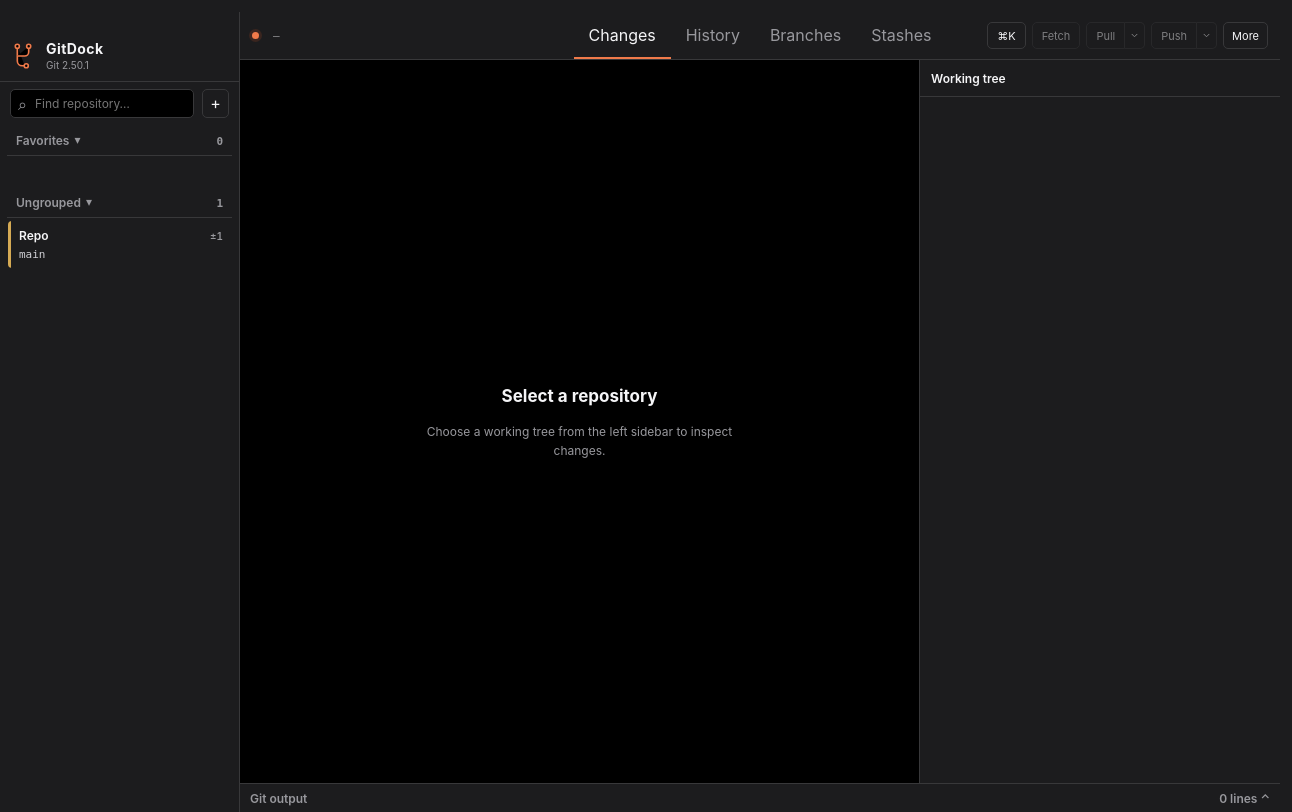
Test: disables normal commits without staged changes but permits amend
Click the button with class "repo-row". click: (120, 244)
box: x1=7 y1=220 x2=232 y2=269
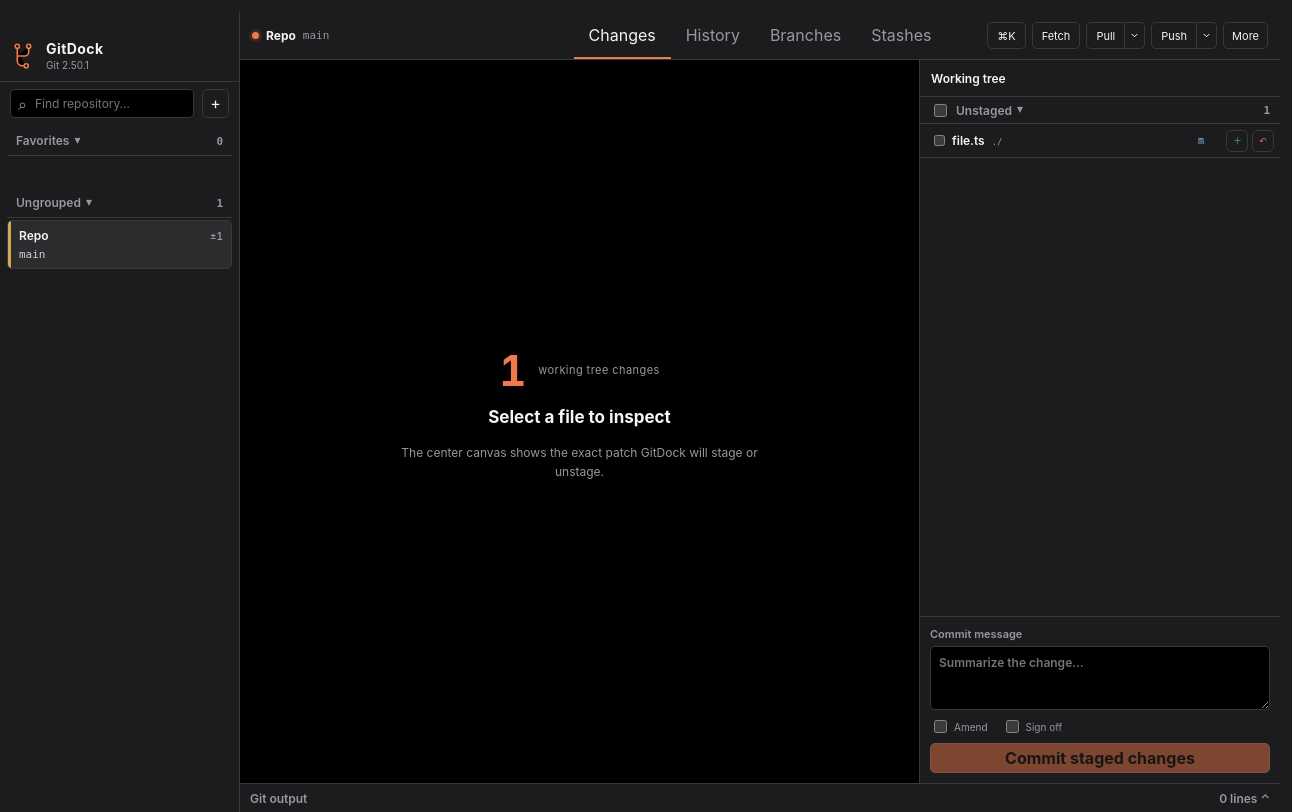
Type "Amend this" into the text box labelled "Commit message". click: (1100, 678)
box: x1=930 y1=646 x2=1270 y2=710
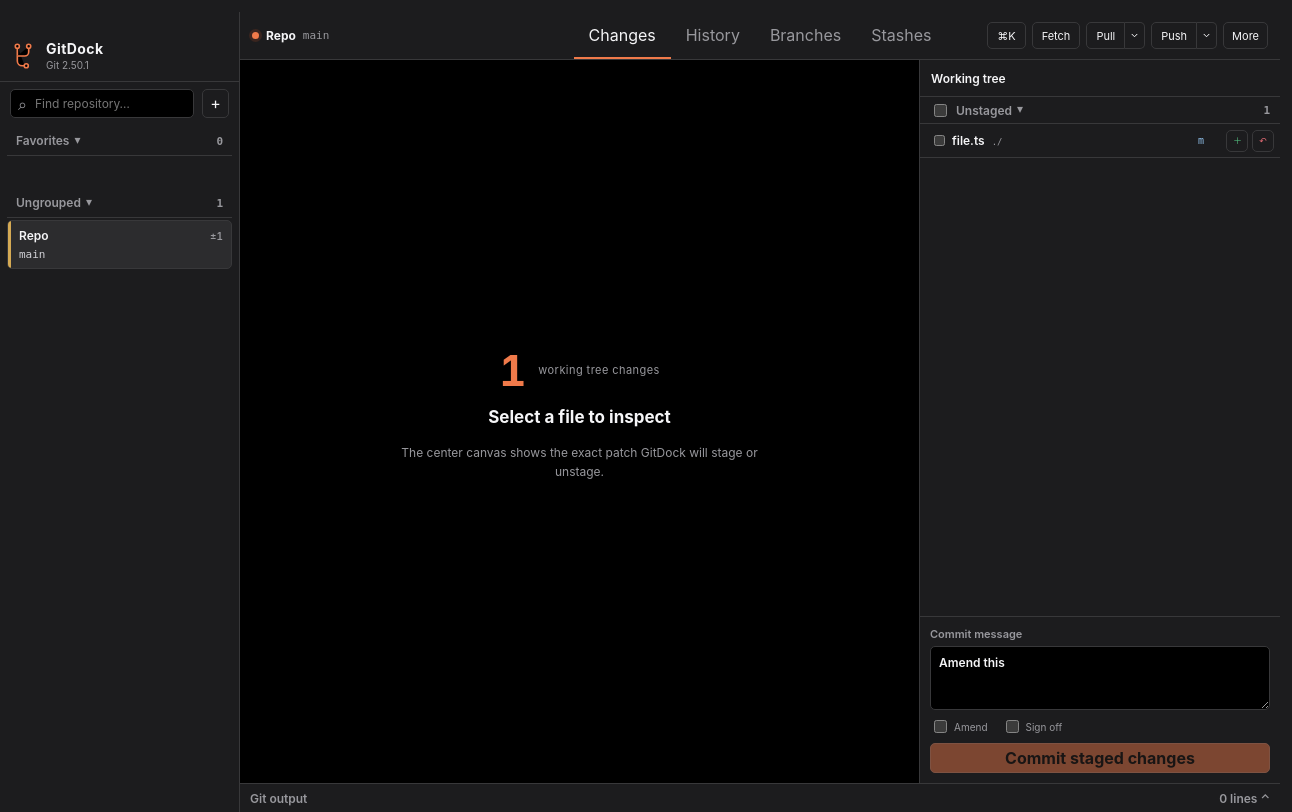
Expected: the button "Commit staged changes" is disabled, x1=930 y1=743 x2=1270 y2=773
Click the checkbox labelled "Amend". click: (940, 726)
box: x1=934 y1=720 x2=947 y2=733
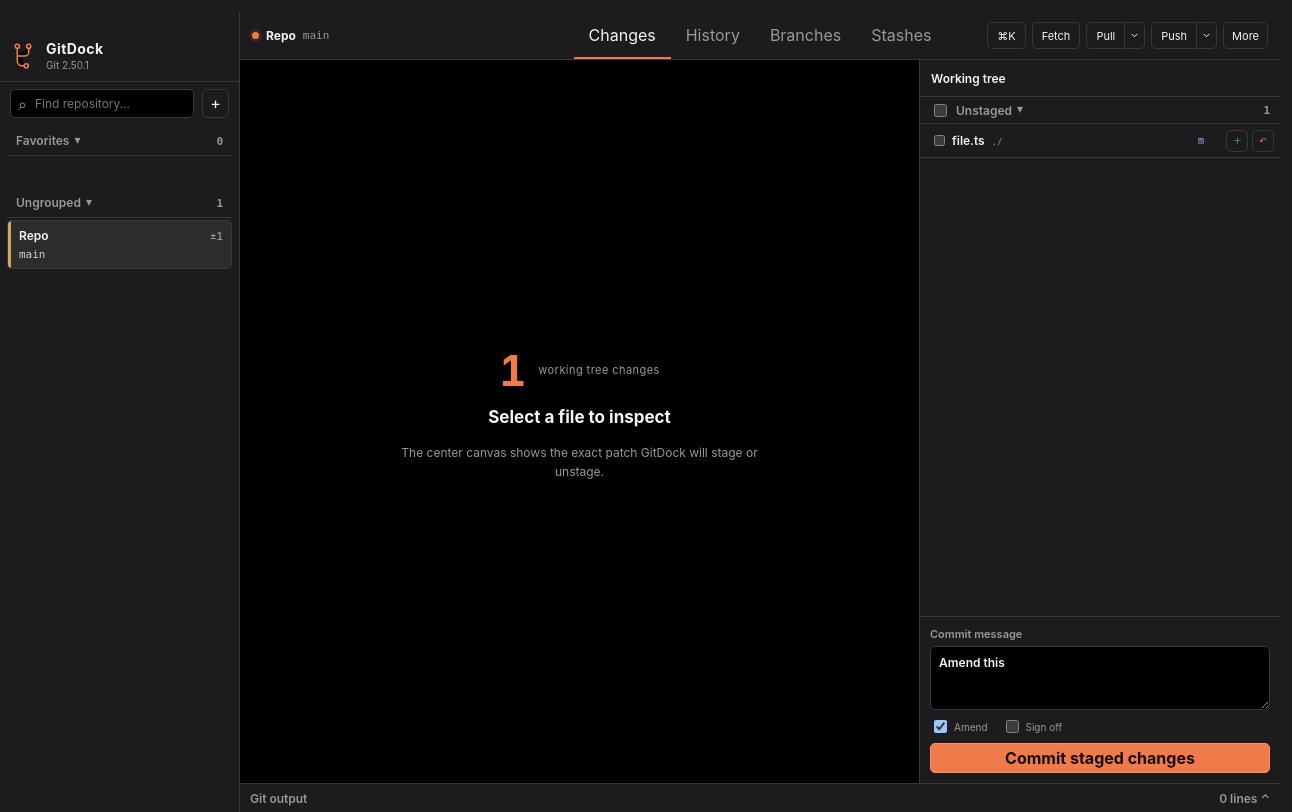
Expected: the button "Commit staged changes" is enabled, x1=930 y1=743 x2=1270 y2=773
Click the checkbox labelled "Amend". click: (940, 726)
box: x1=934 y1=720 x2=947 y2=733
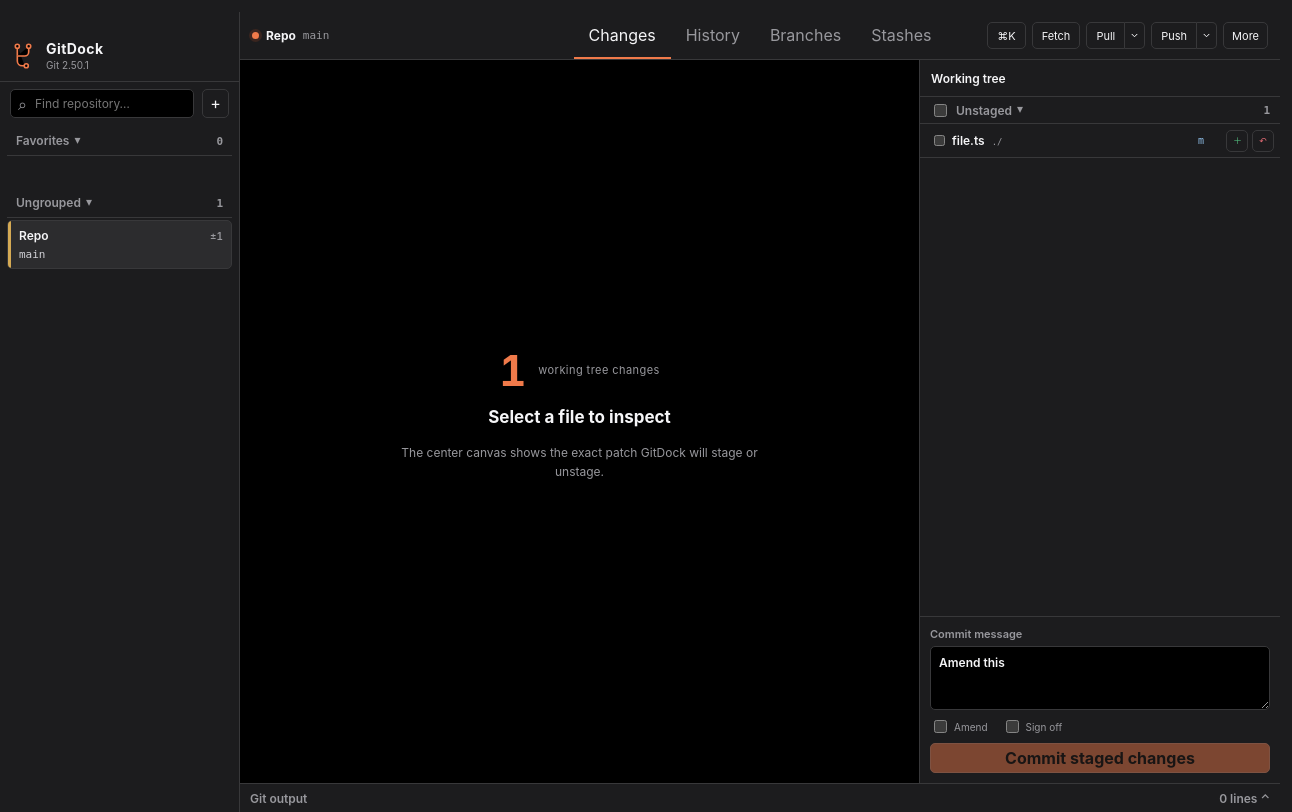
Expected: the button "Commit staged changes" is disabled, x1=930 y1=743 x2=1270 y2=773
